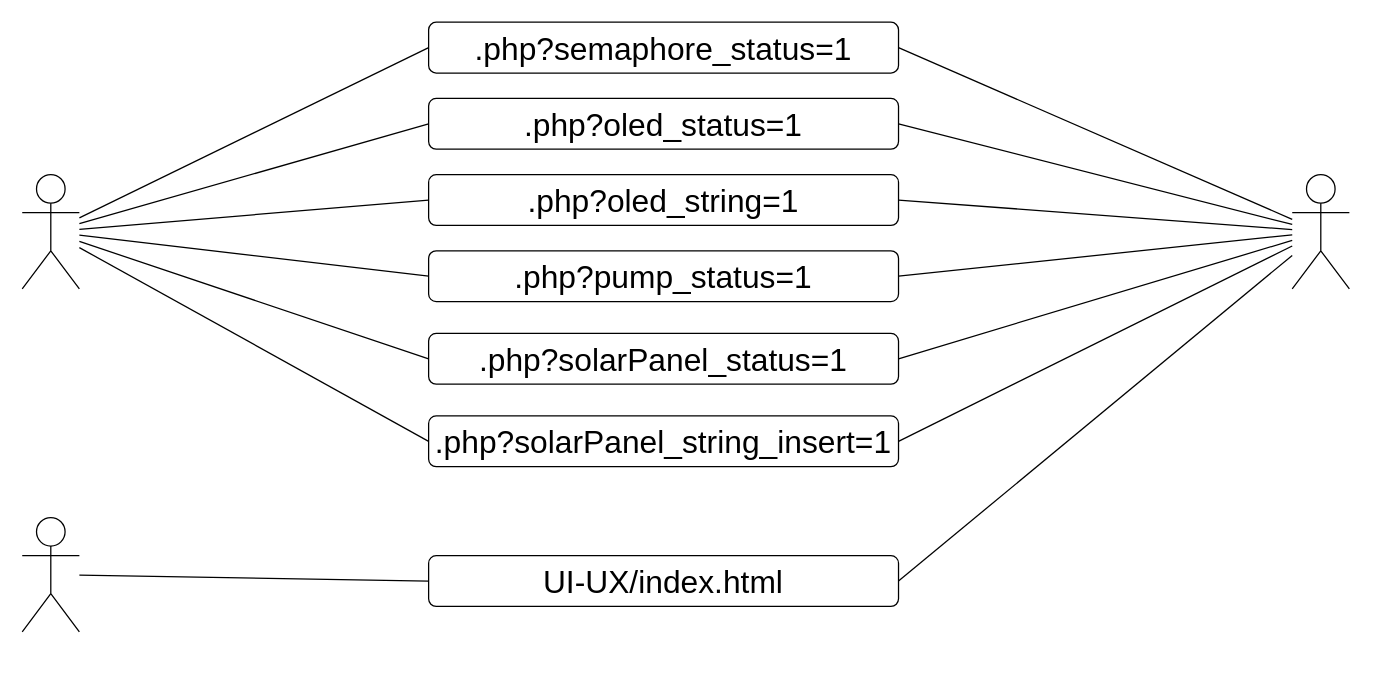
Image size: 1375x681. Some labels were removed from this diagram. The centre of each missing label's shape, as x and y in pixels:
"Arduino" belongs at (50,231).
"Database" belongs at (1320,231).
"User" belongs at (50,574).
